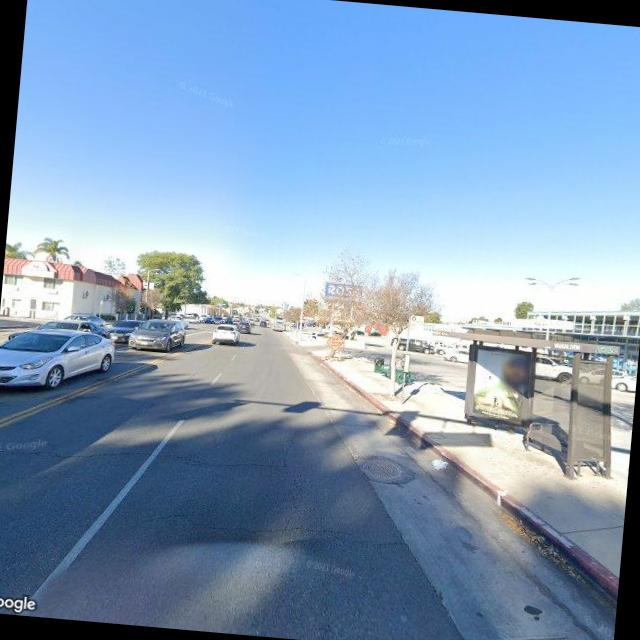crack: (0, 432, 296, 484), (140, 500, 404, 555)
